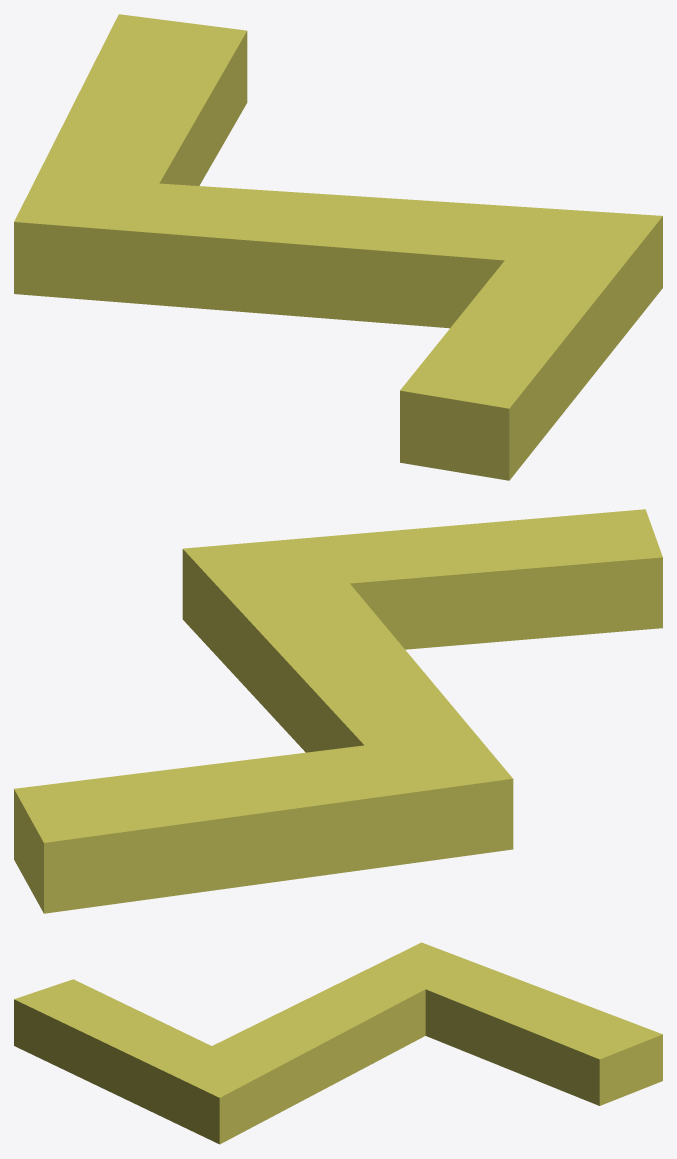
The model's file is Sowilo.fbx.
3 views of the same model, one above another, from view 1: azimuth 30°, elevation 25°; view 2: azimuth 150°, elevation 25°; view 3: azimuth 270°, elevation 25° (orthographic). The views are drawn at different scales.
Visible parts, largest first — view 1: Sowilo; view 2: Sowilo; view 3: Sowilo.
Part boxes in pixels (x1,y1,x2,y2): Sowilo: (14, 14, 662, 480); Sowilo: (14, 509, 662, 913); Sowilo: (14, 942, 662, 1144).
Bounding box in the file's own units: 0.447 × 0.0625 × 0.7883.
